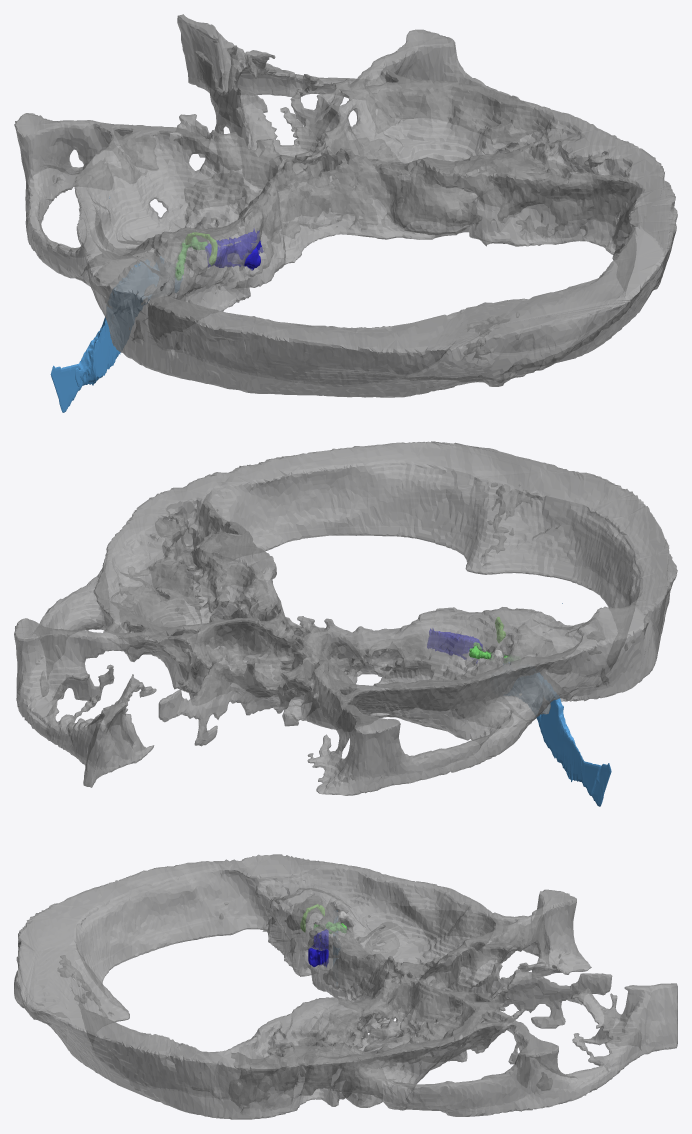
The model's file is SecondInnearEarDecimate2.fbx.
3 renders of one model, top to bottom at view 1: azimuth 30°, elevation 25°; view 2: azimuth 150°, elevation 25°; view 3: azimuth 270°, elevation 25°, orthographic. The views are drawn at different scales.
Visible parts, largest first — view 1: Skull-base-model-copy, External-Auditory-Canal-Model, Internal-Auditory-Canal-Model; view 2: Skull-base-model-copy, External-Auditory-Canal-Model, Internal-Auditory-Canal-Model; view 3: Skull-base-model-copy, Internal-Auditory-Canal-Model.
Boxes of the visible parts, x1,y1,x2,y2 form: Skull-base-model-copy: (14,14,677,397); External-Auditory-Canal-Model: (50,198,182,412); Internal-Auditory-Canal-Model: (205,229,263,270); Skull-base-model-copy: (14,441,677,795); External-Auditory-Canal-Model: (506,603,611,806); Internal-Auditory-Canal-Model: (427,628,482,663); Skull-base-model-copy: (14,854,677,1119); Internal-Auditory-Canal-Model: (308,929,328,966).
Bounding box in the file's own units: 13836 × 5013 × 17901.
